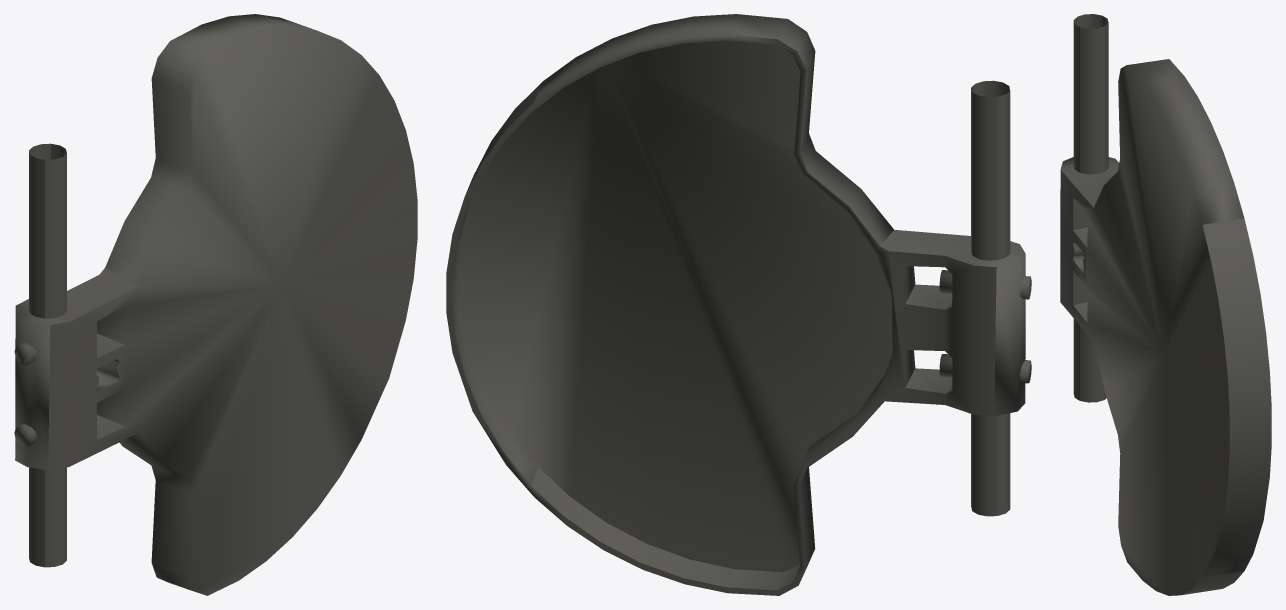
The model's file is ContextImager_Cap.dae.
3 views of the same model, side by side, from view 1: azimuth 30°, elevation 25°; view 2: azimuth 150°, elevation 25°; view 3: azimuth 270°, elevation 25° (orthographic). The views are drawn at different scales.
Visible parts, largest first — view 1: Object_0; view 2: Object_0; view 3: Object_0.
Part boxes in pixels (x1,y1,x2,y2): Object_0: [14, 14, 417, 595]; Object_0: [446, 14, 1031, 595]; Object_0: [1060, 14, 1271, 595].
Size of the model in its own units: 0.0462 by 0.0192 by 0.0499.
Materials: 1 (1 with a texture image).
